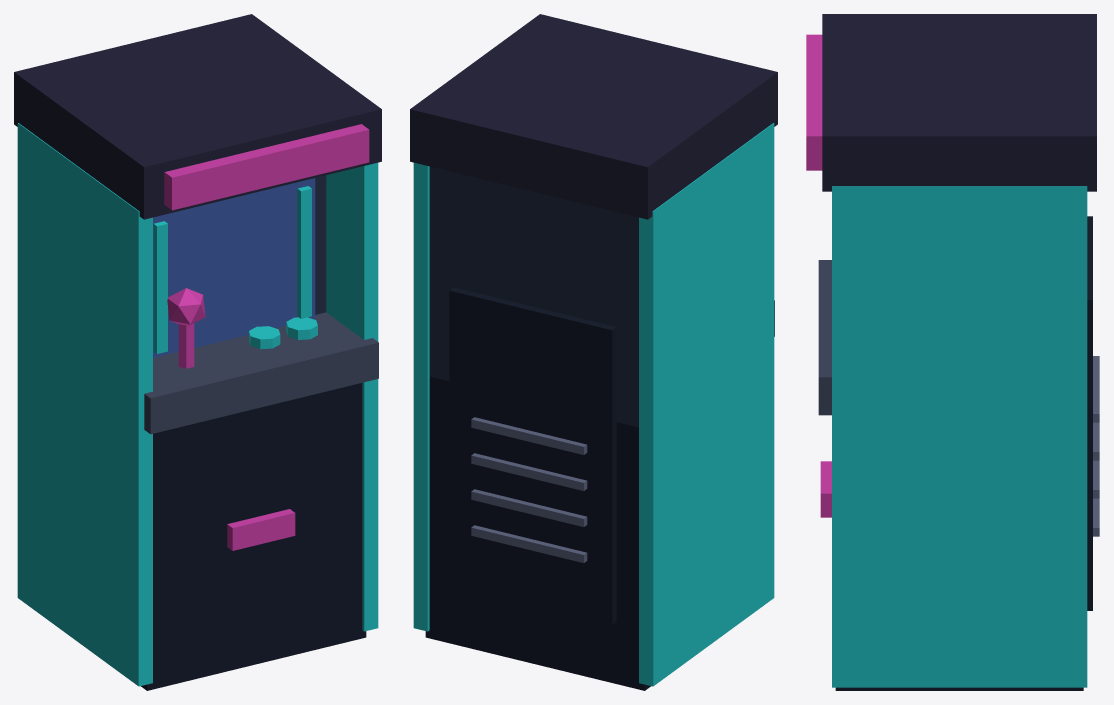
The model's file is Neon_ArcadeCabinet_Standard.glb.
3 views of the same model, side by side, from view 1: azimuth 30°, elevation 25°; view 2: azimuth 150°, elevation 25°; view 3: azimuth 270°, elevation 25° (orthographic). The views are drawn at different scales.
Visible parts, largest first — view 1: Neon_ArcadeCabinet_Standard; view 2: Neon_ArcadeCabinet_Standard; view 3: Neon_ArcadeCabinet_Standard.
Boxes of the visible parts, <box> form: Neon_ArcadeCabinet_Standard: <box>14,14,381,690</box>; Neon_ArcadeCabinet_Standard: <box>410,14,777,690</box>; Neon_ArcadeCabinet_Standard: <box>806,14,1099,690</box>.
Bounding box in the file's own units: 0.765 × 1.62 × 0.77.
